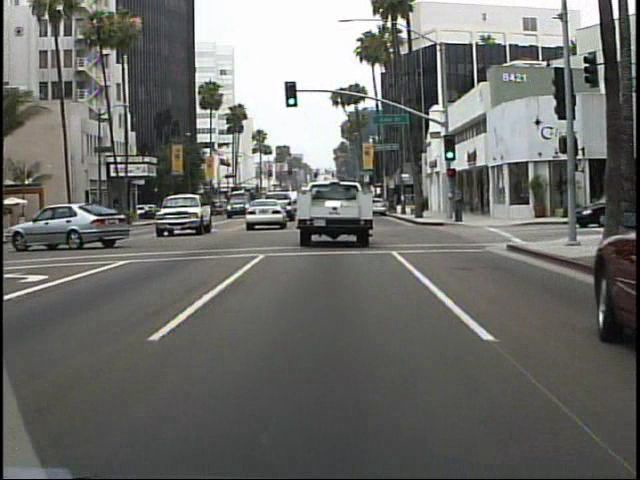person: (449, 182, 467, 225)
